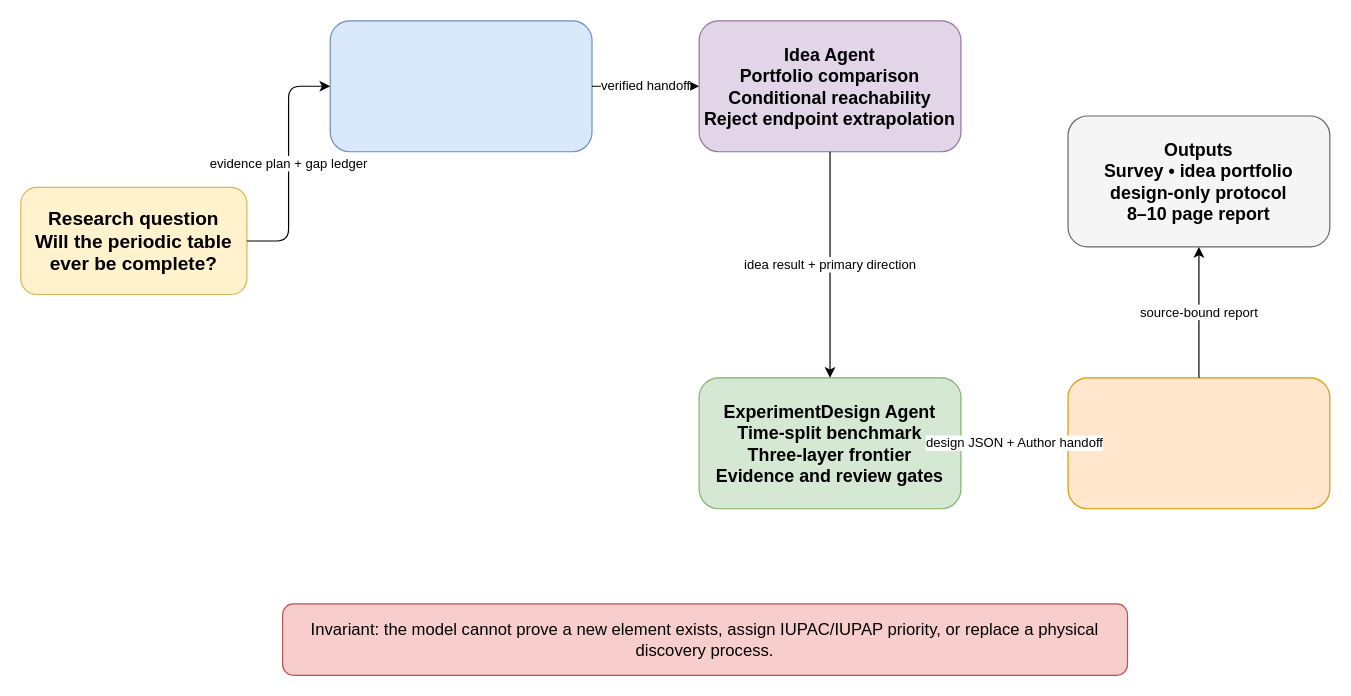
Some shapes in this 1351 by 696 pixel diagram are drawn without their labels. Each missing label, with the centre of its shape:
Author Agent Source-bound IEEE report Claim-language audit No result fabrication: the point at 1198,443
Survey Agent IUPAC/IUPAP evidence Four completion layers Gap ledger: the point at 460,86
